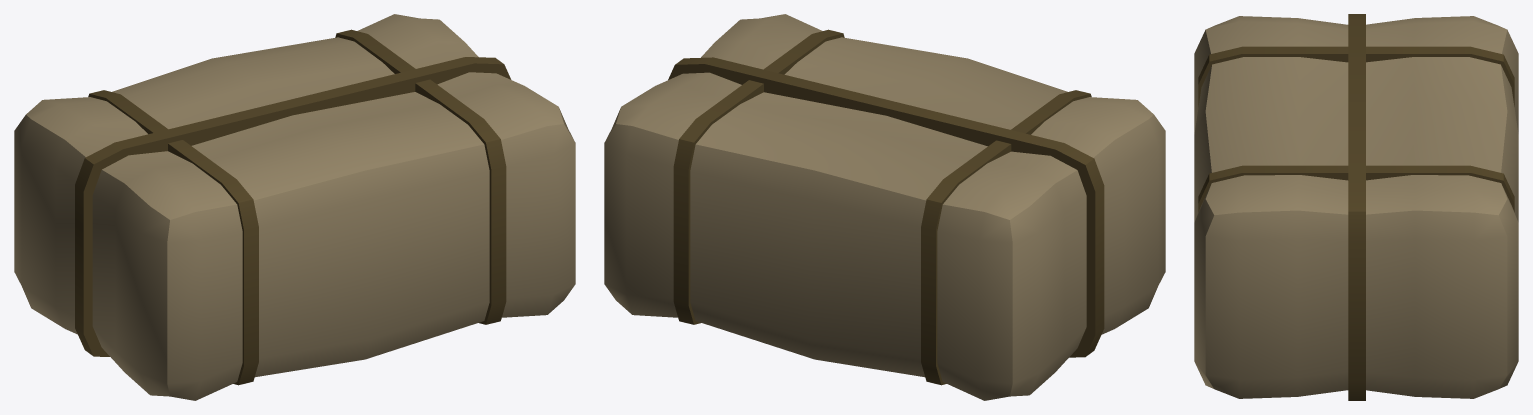
File: Package_1.glb
3 renders of one model, left to right at view 1: azimuth 30°, elevation 25°; view 2: azimuth 150°, elevation 25°; view 3: azimuth 270°, elevation 25°, orthographic.
Visible parts, largest first — view 1: Package_1; view 2: Package_1; view 3: Package_1.
Boxes of the visible parts, x1,y1,x2,y2 form: Package_1: [14, 14, 575, 400]; Package_1: [604, 14, 1165, 400]; Package_1: [1194, 14, 1518, 400].
Size of the model in its own units: 0.2789 by 0.1291 by 0.1845.
